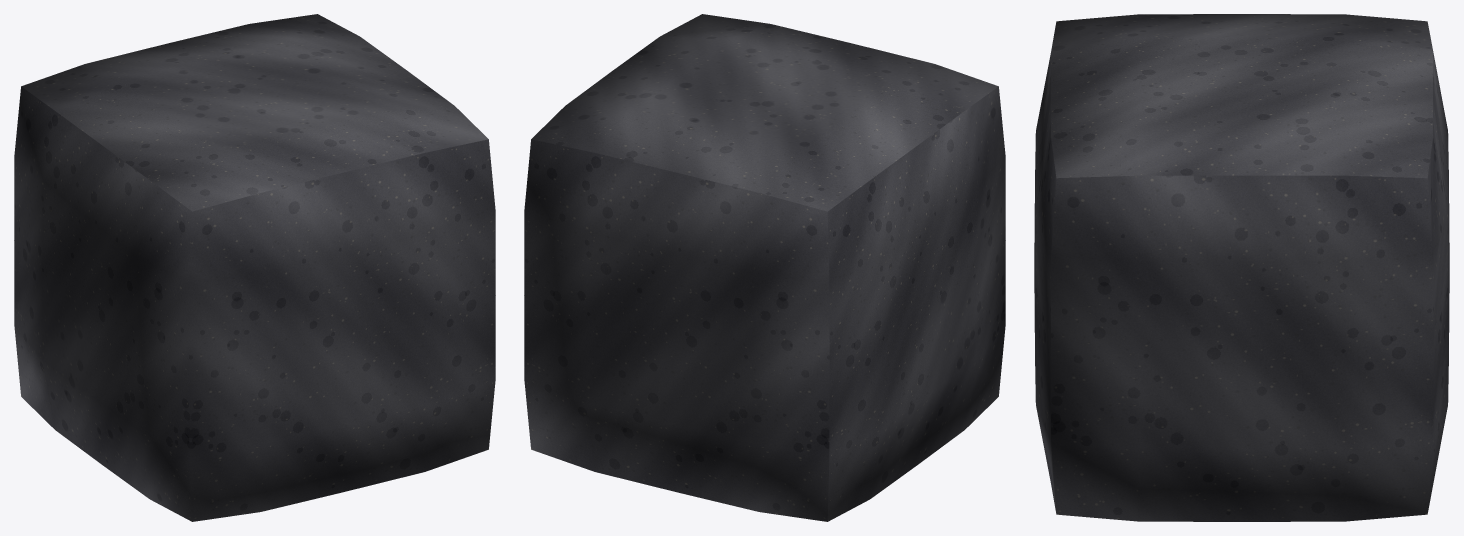
The model's file is volcanic_single.glb.
3 renders of one model, left to right at view 1: azimuth 30°, elevation 25°; view 2: azimuth 150°, elevation 25°; view 3: azimuth 270°, elevation 25°, orthographic. The views are drawn at different scales.
Parts seen in each view (by area): view 1: volcanic_single; view 2: volcanic_single; view 3: volcanic_single.
Part boxes in pixels (x1=…): volcanic_single: x1=14, y1=14, x2=495, y2=521; volcanic_single: x1=524, y1=14, x2=1005, y2=521; volcanic_single: x1=1034, y1=14, x2=1449, y2=521.
Bounding box in the file's own units: 1 × 1 × 1.
2 materials, 2 textured.
